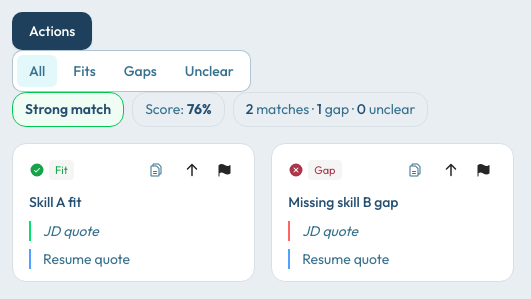
Test case: MatchTabContent › shows match header menu items while tab content loads
What coordinates should you click on to do the following:
click the button "Actions"
I would click on:
 (52, 31)
Its box is [12,12,92,50].
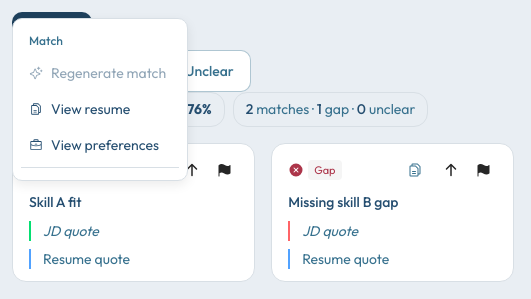
Check: the text "Match" is shown, box [29,33,63,48]
Check: the menu item "View resume" is shown, box [29,100,130,118]
Check: the menu item "View preferences" is shown, box [29,136,159,154]
